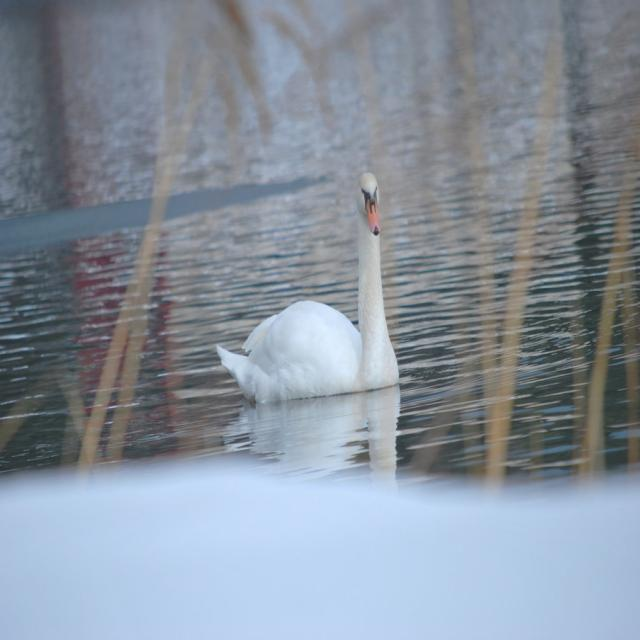bird: (220, 144, 403, 413)
